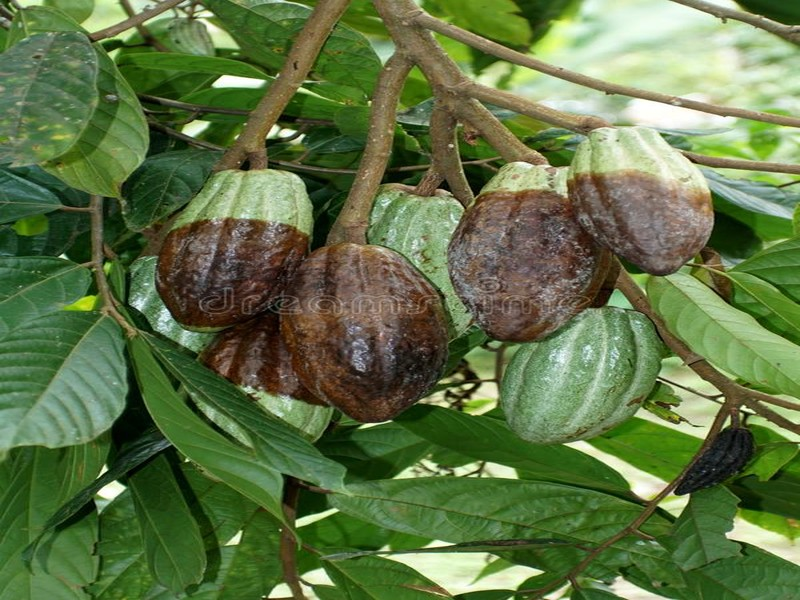Cacaopod: (278, 243, 450, 424), (447, 161, 618, 340), (153, 168, 316, 335), (568, 125, 717, 279)
